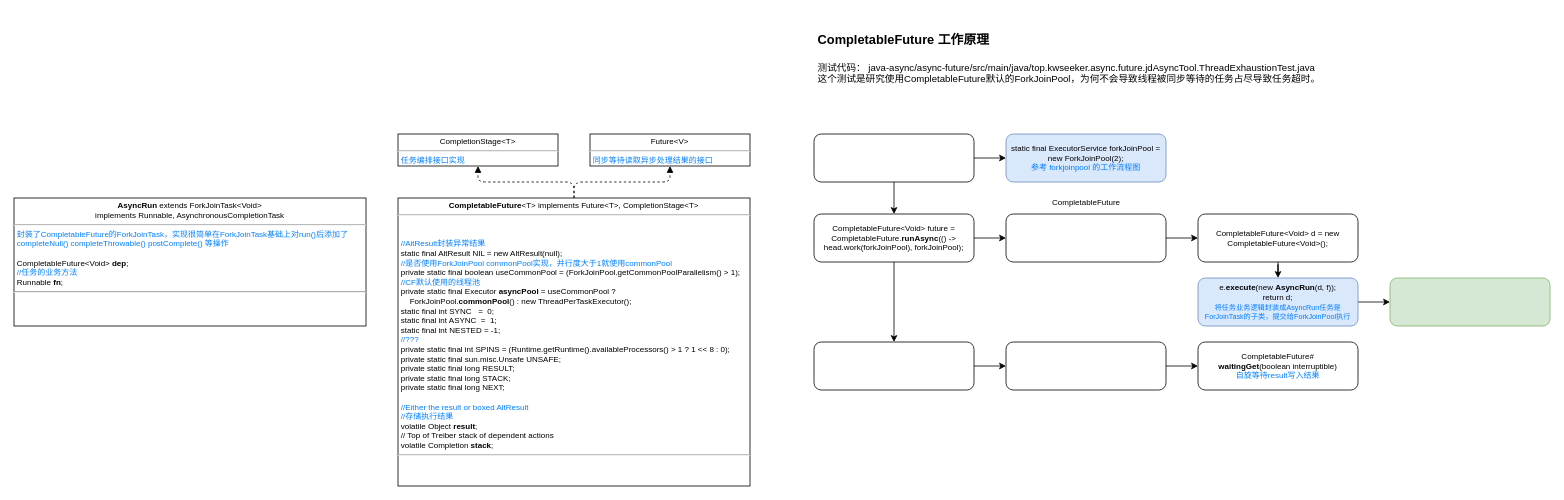
Image size: 1564x500. Some labels were removed from this diagram. The shapes that lost their labels are listed below. From the top down, each one's centre as x and y in pixels, then its label:
At (x=893, y=157): "测试初始化".
At (x=1085, y=237): "return asyncRunStage ( screenExecutor(executor), runnable);".
At (x=1469, y=301): "ForkJoinPool# execute (Runnable task) 这里task是AsyncRun实例".
At (x=893, y=365): "future.get();".
At (x=1085, y=365): "return reportGet((r = result) == null ? waitingGet (true) : r);".
